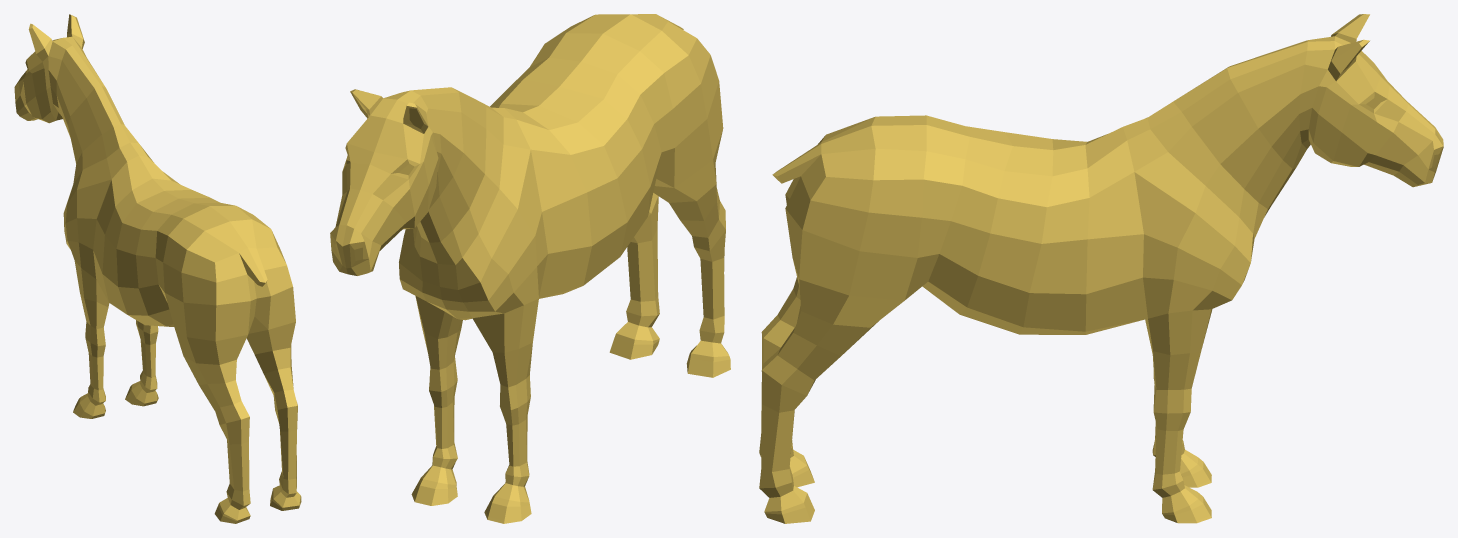
The model's file is Pony.fbx.
3 renders of one model, left to right at view 1: azimuth 30°, elevation 25°; view 2: azimuth 150°, elevation 25°; view 3: azimuth 270°, elevation 25°, orthographic. The views are drawn at different scales.
Visible parts, largest first — view 1: Cube; view 2: Cube; view 3: Cube.
Boxes of the visible parts, left/top/right/bottom form: Cube: left=14, top=14, right=301, bottom=523; Cube: left=330, top=14, right=730, bottom=523; Cube: left=759, top=14, right=1443, bottom=523.
Bounding box in the file's own units: 36.77 × 109 × 144.
